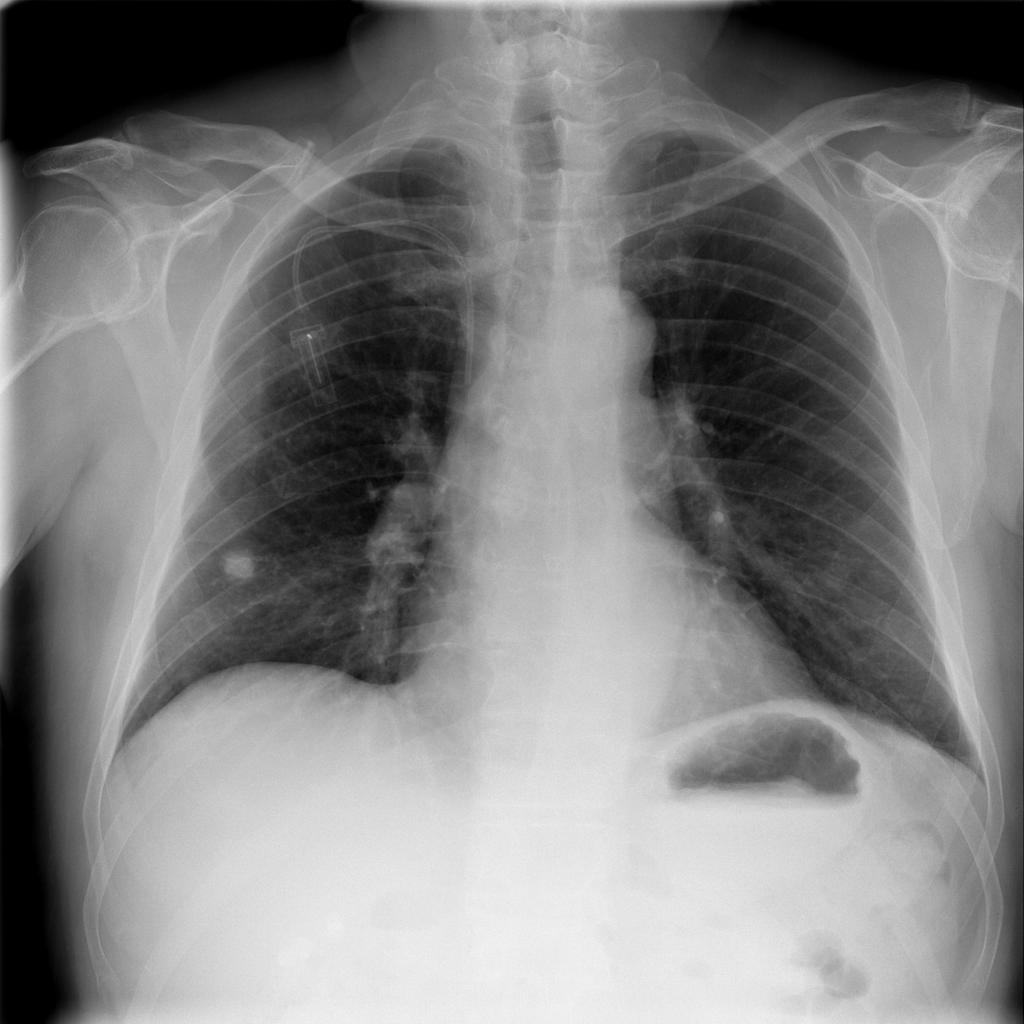nodule: (198, 530, 276, 597)
